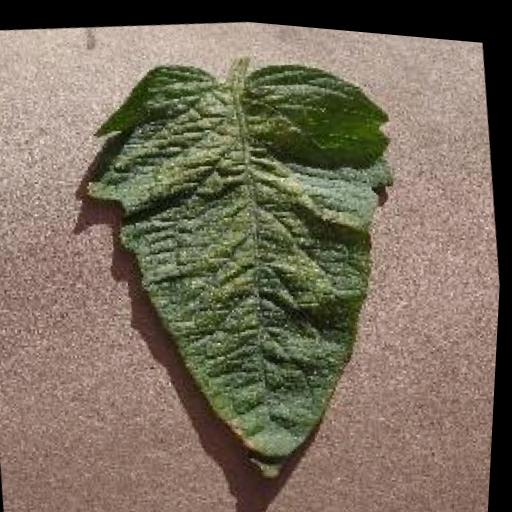Spider Mites: (59, 30, 433, 501)
